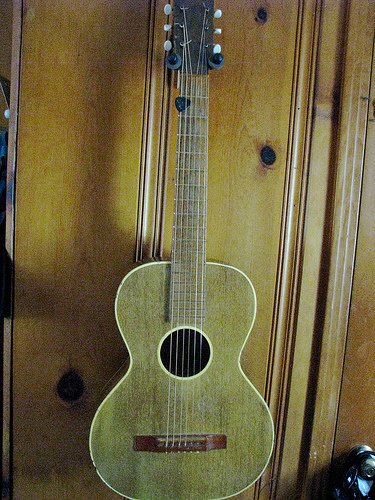guitar: (84, 1, 278, 500)
